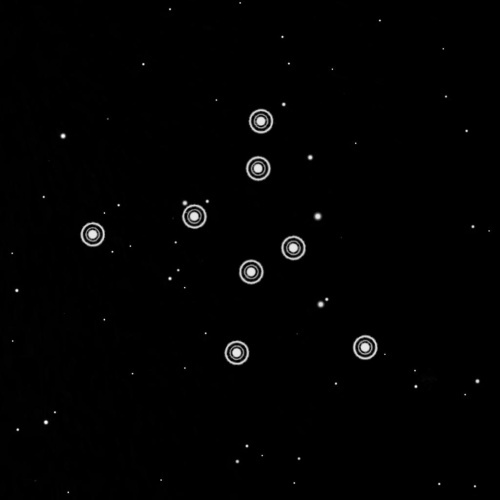hercules: (71, 101, 383, 372)
